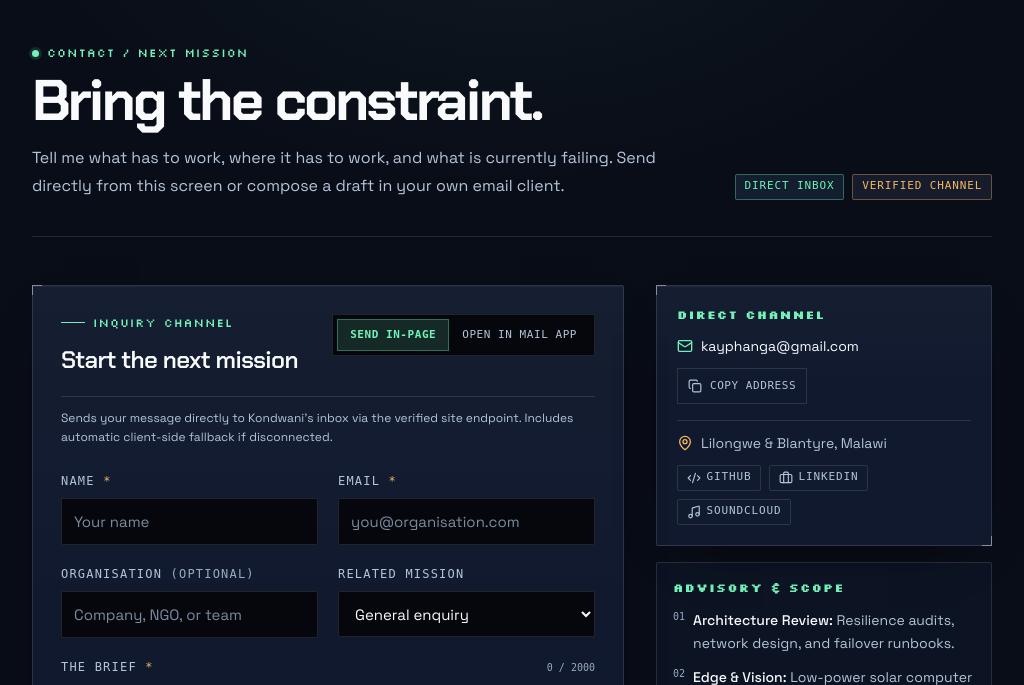
Test: <ContactView /> › switches to mail app mode, builds a mailto draft, and never claims the message was sent
The image size is (1024, 685).
Note: Switch to mail client mode
Step 1. Click the button "Open in mail app" → (520, 335), box [449,319,590,351]
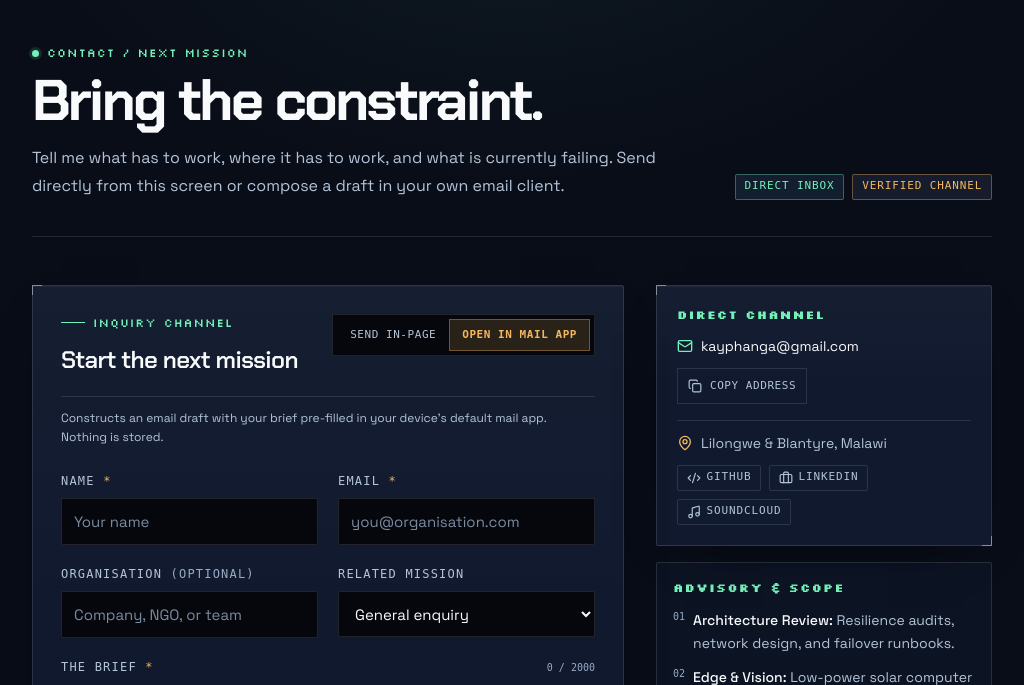
Step 2. Type "Test Person" into the field labelled "Name *" → (190, 522), box [61,498,318,545]
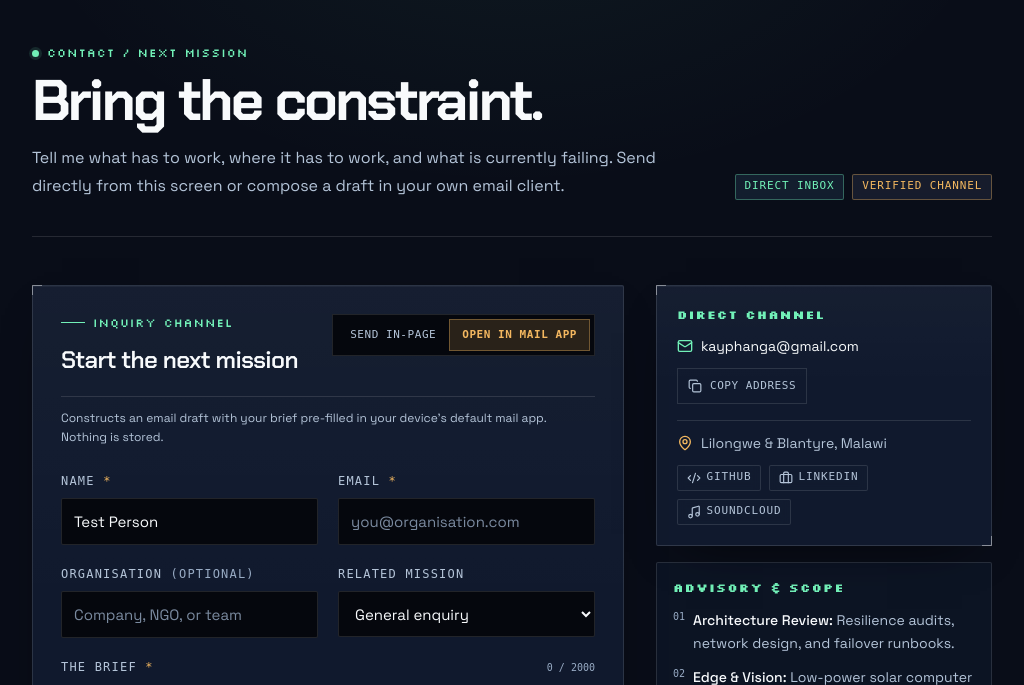
Step 3. Type "test@example.com" into the field labelled "Email *" → (466, 522), box [338,498,595,545]
(page scrolled)
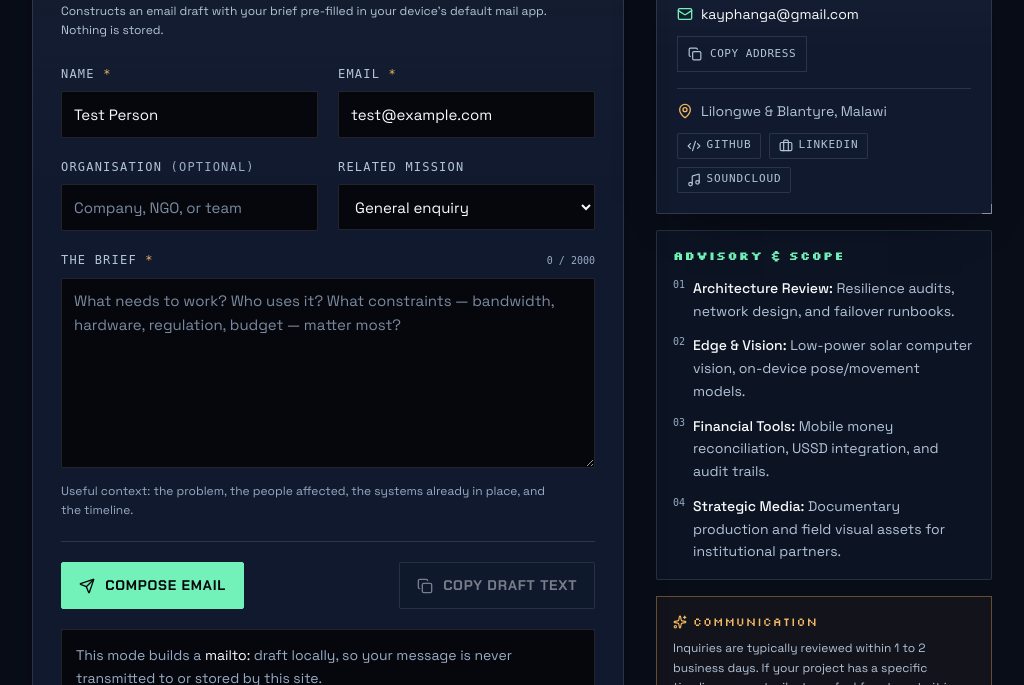
Step 4. Replace the text in the text box labelled "The brief *" with "We need an offline-first reconciliation system for three districts." → (328, 373), box [61,278,595,468]
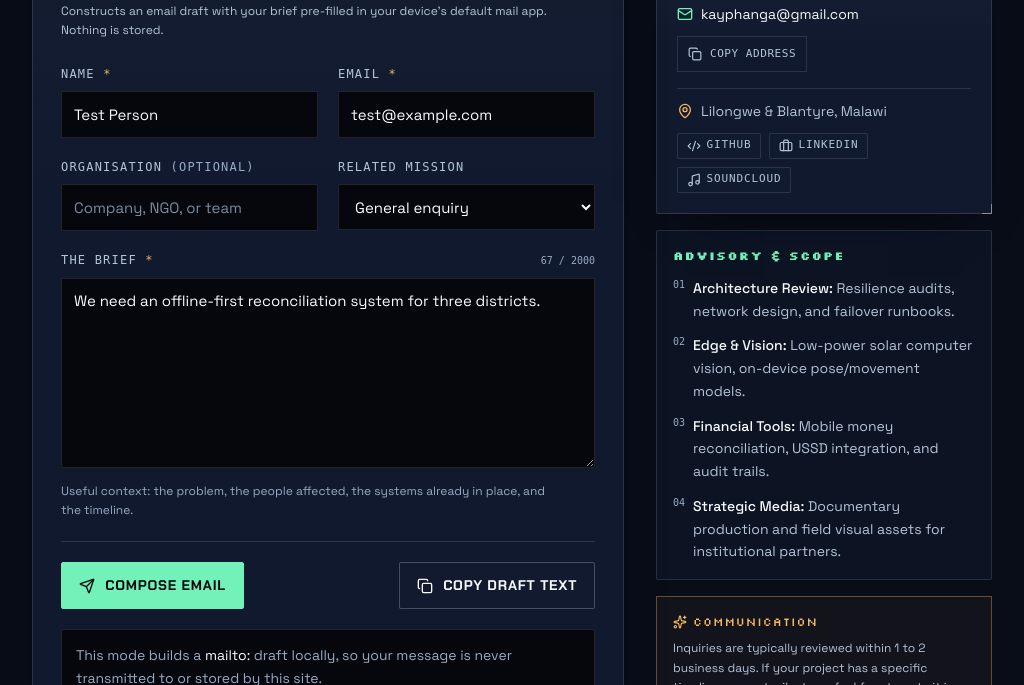
Step 5. Click the button "Compose email" → (152, 586), box [61,562,244,609]
(page scrolled)
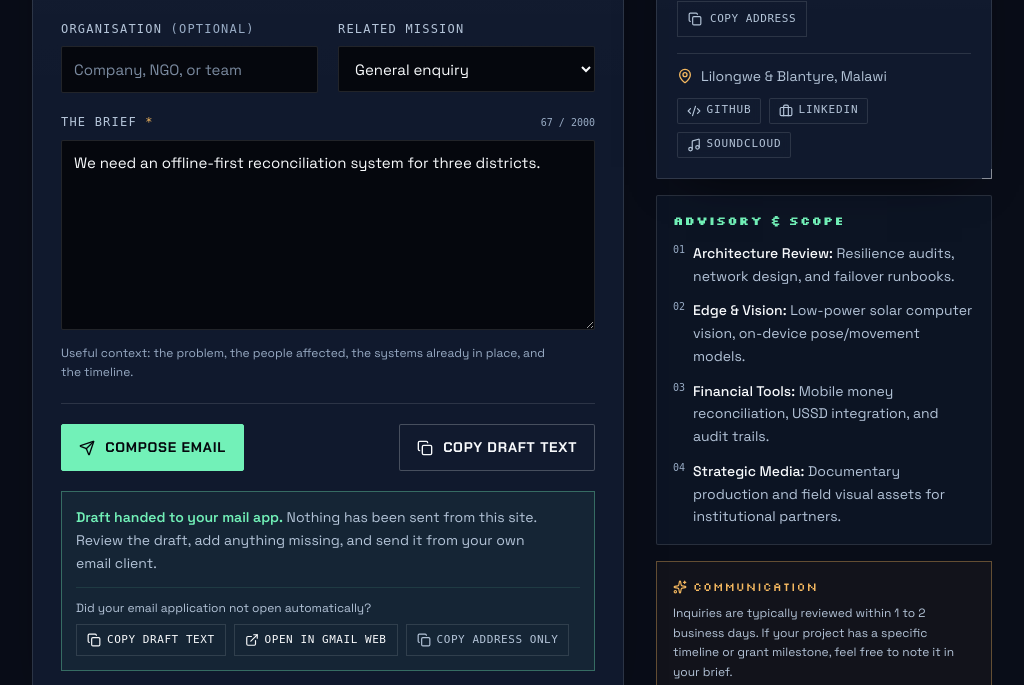
Now the text "Nothing has been sent from this site" is shown, box [76,508,536,572]
Now the text "Did your email application not open automatically?" is shown, box [76,600,371,616]
Now the link "Open in Gmail web" is shown, box [234,624,398,656]
